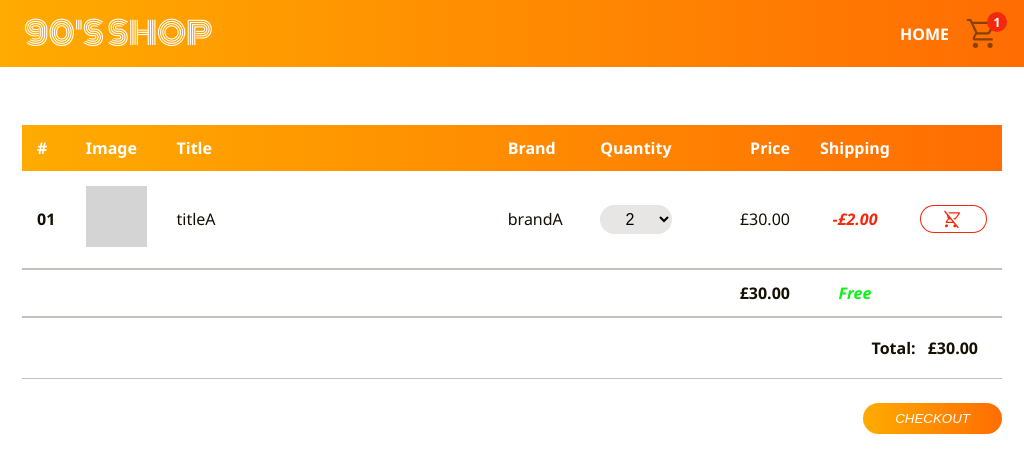
Cart page › Change quantity
Expected: the cell with test id "total-products" is shown, [686,269,805,317]
Expected: the cell with test id "total-products" reads "£30.00", [740,282,790,304]
Select "1" in the dropdown with test id "select" at (636, 219), box [600,205,672,234]
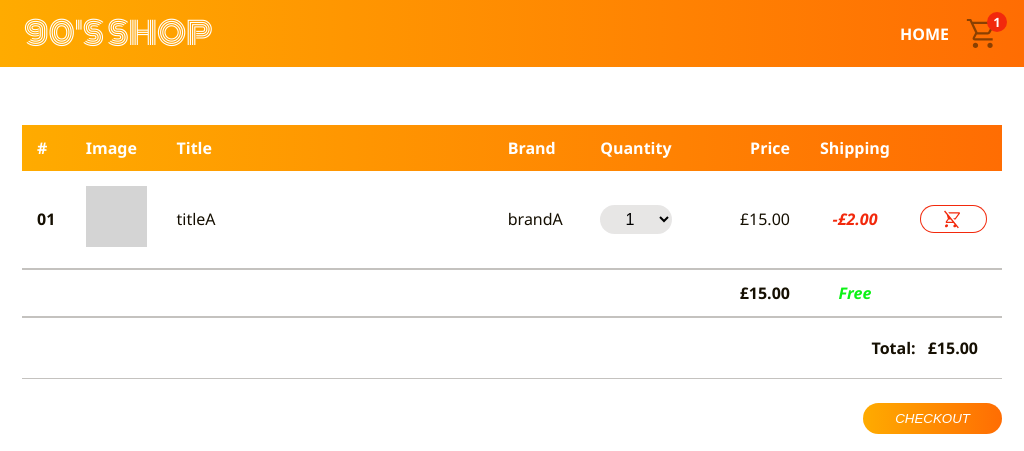
Expected: the cell with test id "total-products" is shown, [686,269,805,317]
Now the cell with test id "total-products" reads "£15.00", box [740,282,790,304]
